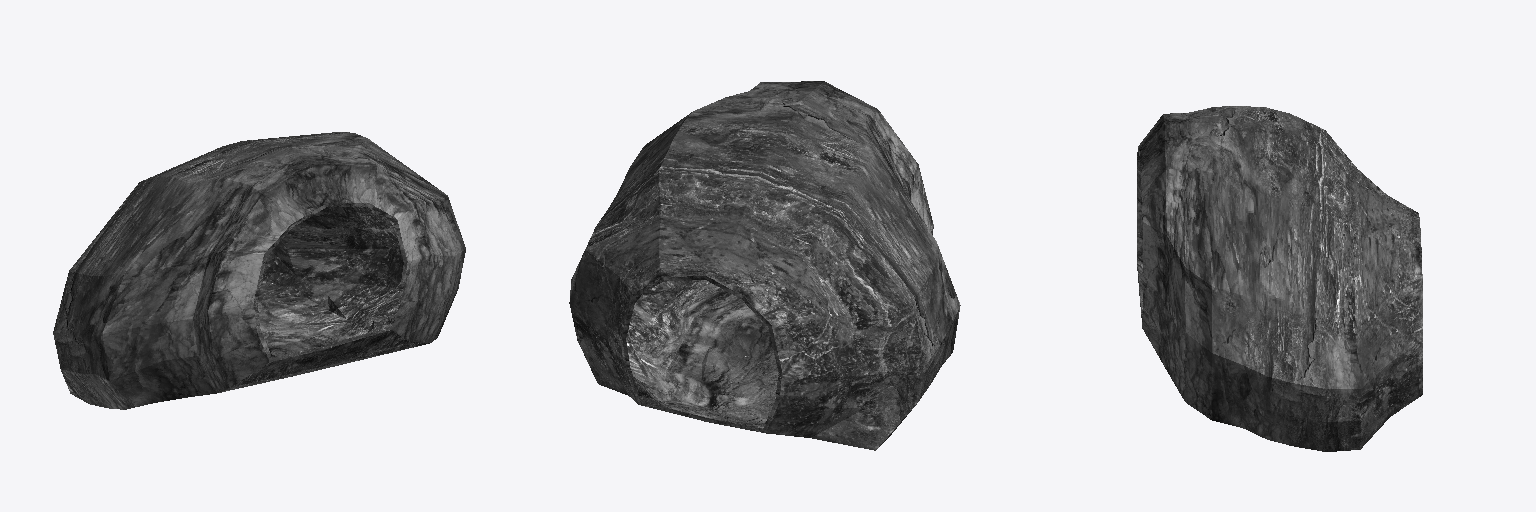
The picture shows the model from 3 angles: view 1: azimuth 30°, elevation 25°; view 2: azimuth 150°, elevation 25°; view 3: azimuth 270°, elevation 25°; orthographic projection.
Visible parts, largest first — view 1: caveramp2; view 2: caveramp2; view 3: caveramp2.
Part boxes in pixels (bbox=[...]): caveramp2: bbox=[53, 132, 465, 409]; caveramp2: bbox=[569, 81, 960, 450]; caveramp2: bbox=[1137, 106, 1422, 451].
Bounding box in the file's own units: 2580 × 1811 × 1774.
Materials: 1 (1 with a texture image).